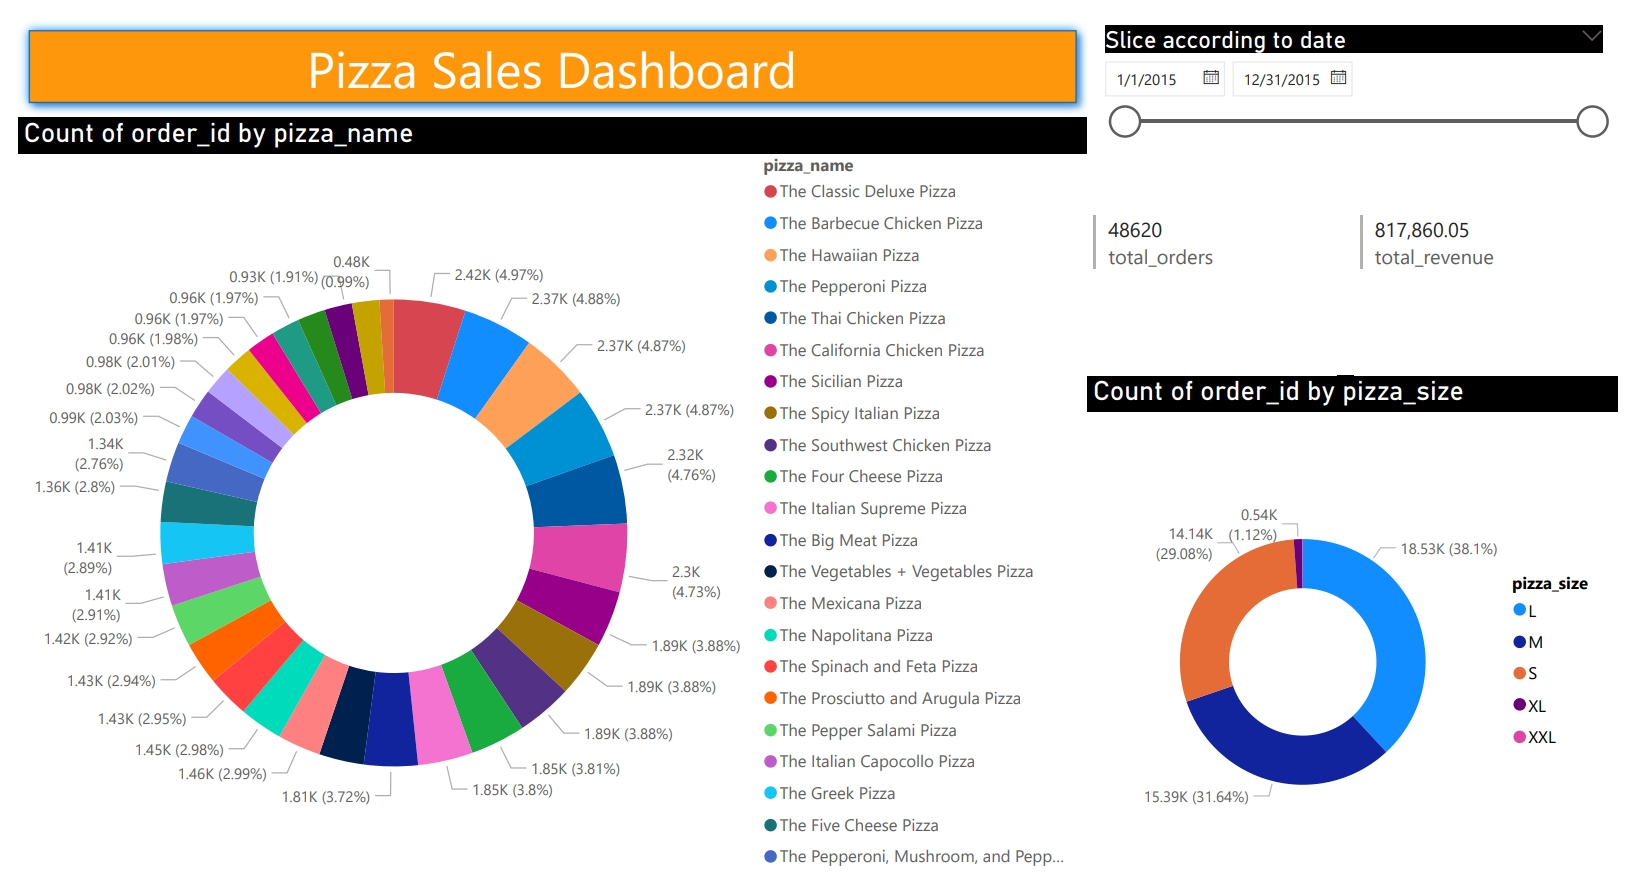

Layout of this report page (visuals, bound fields, positions):
{"tool":"powerbi","page":{"name":"Page 1","canvas":[1280,720],"ordinal":0},"visuals":[{"type":"donutChart","fields":{"Category":["Sales.pizza_size"],"Y":["CountNonNull(Sales.order_id)"]},"box":[855.3,285.1,424.9,434.5],"z":0},{"type":"donutChart","fields":{"Category":["Pizza Data.pizza_name"],"Y":["CountNonNull(Sales.order_id)"]},"box":[0,78.7,855.3,640.8],"z":1000},{"type":"slicer","fields":{"Values":["Sales.order_date"]},"box":[856.7,0,423.6,152.1],"z":2000},{"type":"multiRowCard","fields":{"Values":["Sales.total_orders"]},"box":[855.3,152.1,199.6,133.1],"z":3000},{"type":"multiRowCard","fields":{"Values":["Sales.total_revenue"]},"box":[1068.5,152.1,211.8,133.1],"z":3001},{"type":"shape","box":[0,0,855.3,76],"z":3002}]}

Visuals, with their boxes on the page's 1280x720 design canvas (x1, y1, x2, y2). These are canvas units, not pixel positions in the 1644x893 screenshot, which may show the page scaled, cropped or inside an application window:
donutChart - Sales.pizza_size x CountNonNull(Sales.order_id): Rect(855, 285, 1280, 720)
donutChart - Pizza Data.pizza_name x CountNonNull(Sales.order_id): Rect(0, 79, 855, 720)
slicer - Sales.order_date: Rect(857, 0, 1280, 152)
multiRowCard - Sales.total_orders: Rect(855, 152, 1055, 285)
multiRowCard - Sales.total_revenue: Rect(1068, 152, 1280, 285)
shape: Rect(0, 0, 855, 76)
